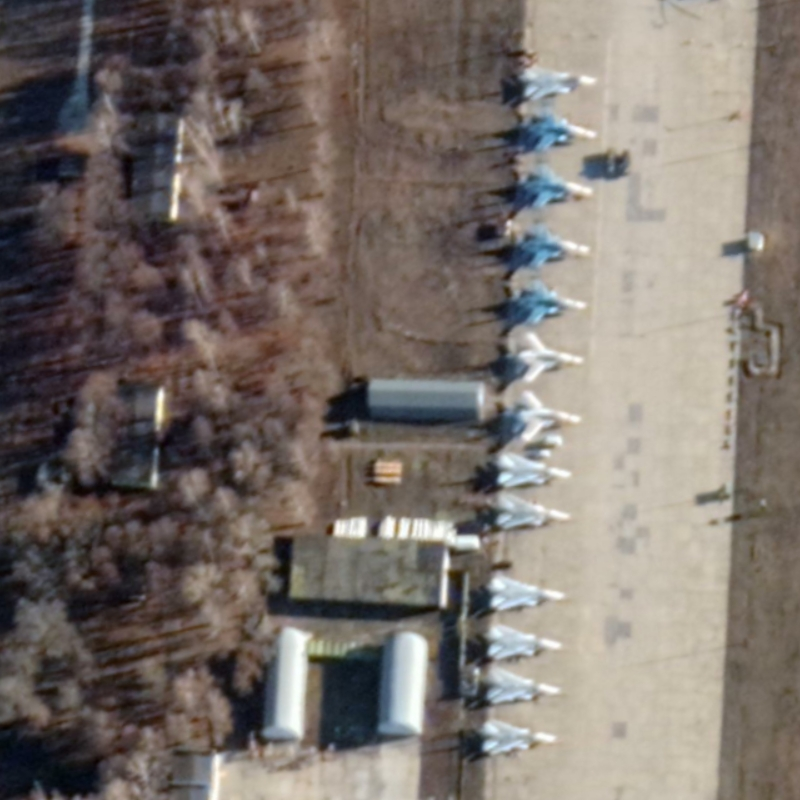A19: (508, 388, 585, 442), (513, 329, 586, 384), (511, 223, 592, 271), (506, 279, 589, 325), (518, 161, 594, 210), (522, 108, 599, 152)
A20: (478, 716, 559, 757), (483, 665, 563, 706), (486, 573, 567, 613), (484, 622, 565, 662), (494, 449, 574, 489), (493, 492, 572, 532), (522, 64, 600, 102)
